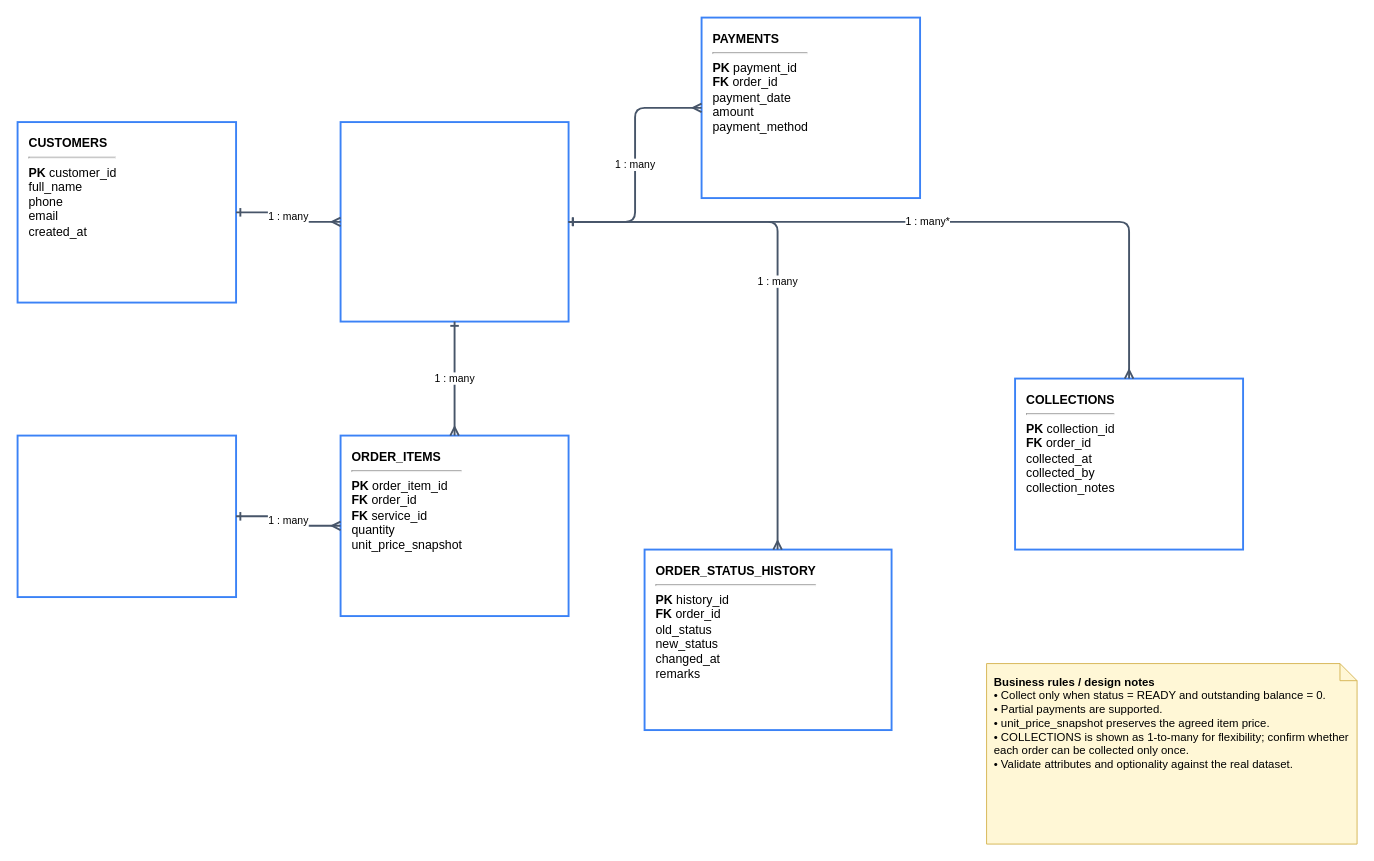
Some shapes in this 1374 by 861 pixel diagram are drawn without their labels. Each missing label, with the centre of its shape:
"ORDERS PK order_id FK customer_id order_date due_date order_status notes" goes at point 454,221.
"SERVICES PK service_id service_name description current_price" goes at point 126,516.
